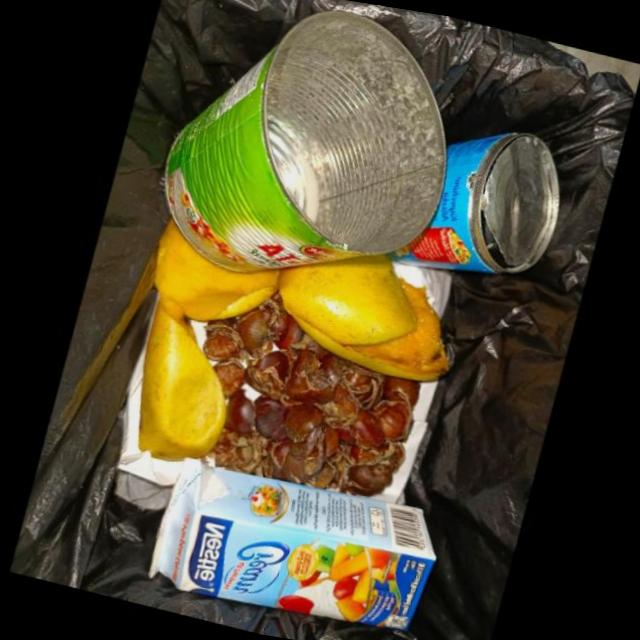nhom: (162, 9, 445, 273), (385, 129, 559, 274)
vo_hop_sua: (147, 457, 436, 631)
vo_trai_cay: (201, 291, 419, 497), (276, 253, 448, 382), (135, 294, 227, 462), (153, 217, 279, 322)
